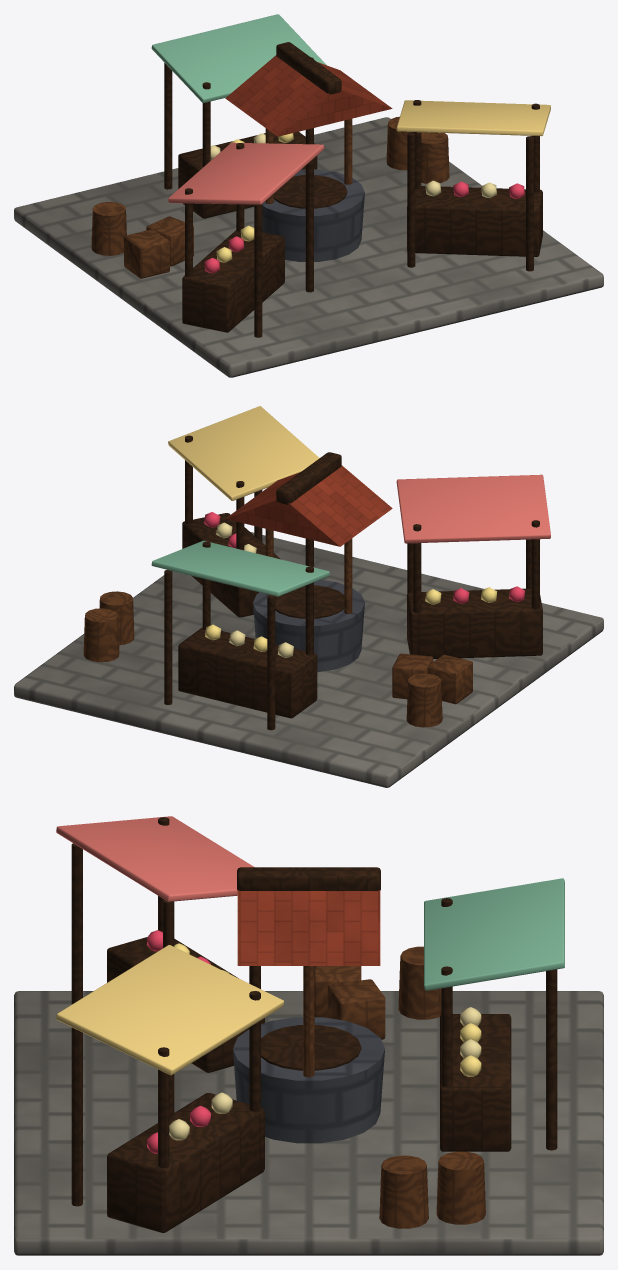
The model's file is building_market.glb.
3 renders of one model, top to bottom at view 1: azimuth 30°, elevation 25°; view 2: azimuth 150°, elevation 25°; view 3: azimuth 270°, elevation 25°, orthographic. The views are drawn at different scales.
Visible parts, largest first — view 1: building_market; view 2: building_market; view 3: building_market.
Part boxes in pixels (x1,y1,x2,y2): building_market: (14, 14, 603, 377); building_market: (14, 406, 603, 787); building_market: (14, 816, 603, 1255).
Size of the model in its own units: 6.31 by 3.04 by 6.2.
11 materials, 5 textured.
